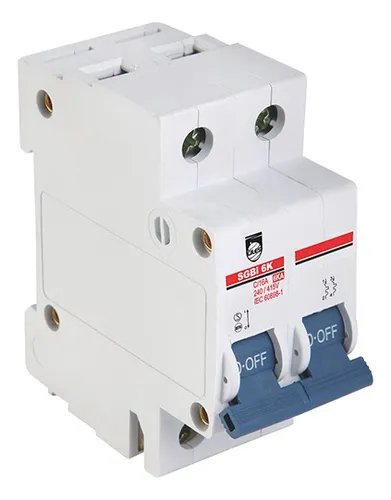BREACKER: (16, 13, 378, 481)
